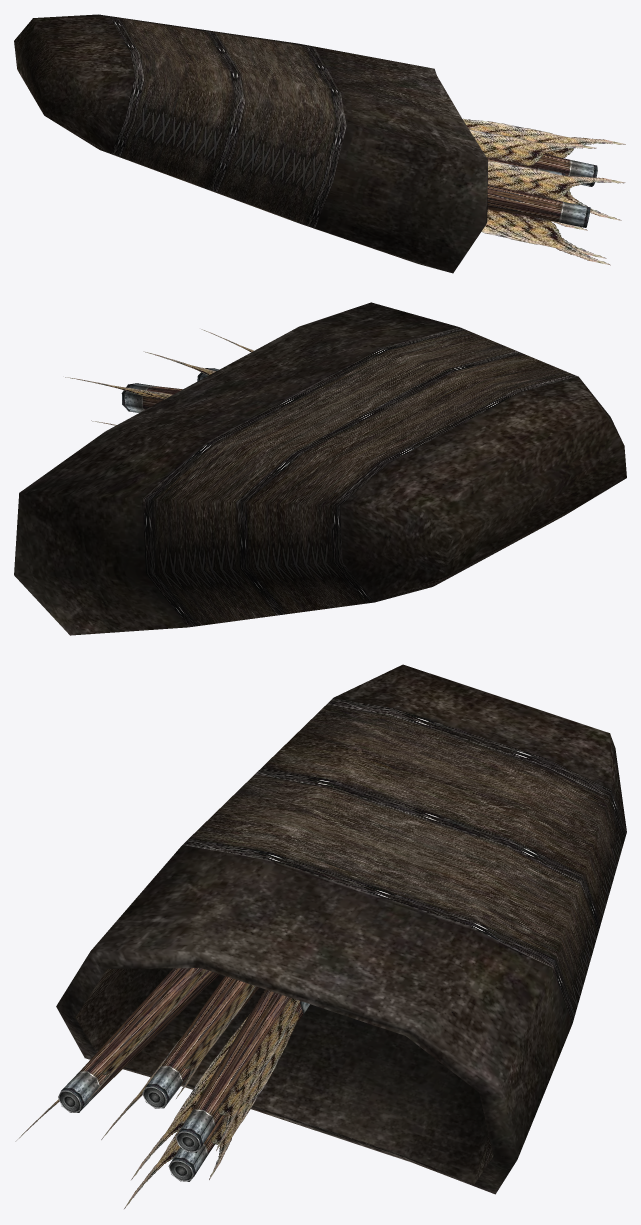
The model's file is ITRW_QUIVER_4C.glb.
3 renders of one model, top to bottom at view 1: azimuth 30°, elevation 25°; view 2: azimuth 150°, elevation 25°; view 3: azimuth 270°, elevation 25°, orthographic. The views are drawn at different scales.
Parts seen in each view (by area): view 1: Mesh; view 2: Mesh; view 3: Mesh.
Boxes of the visible parts, bbox=[...] form: Mesh: bbox=[14, 14, 625, 273]; Mesh: bbox=[14, 302, 626, 635]; Mesh: bbox=[15, 664, 626, 1208].
Bounding box in the file's own units: 0.2995 × 0.1329 × 0.2472.
3 materials, 3 textured.
